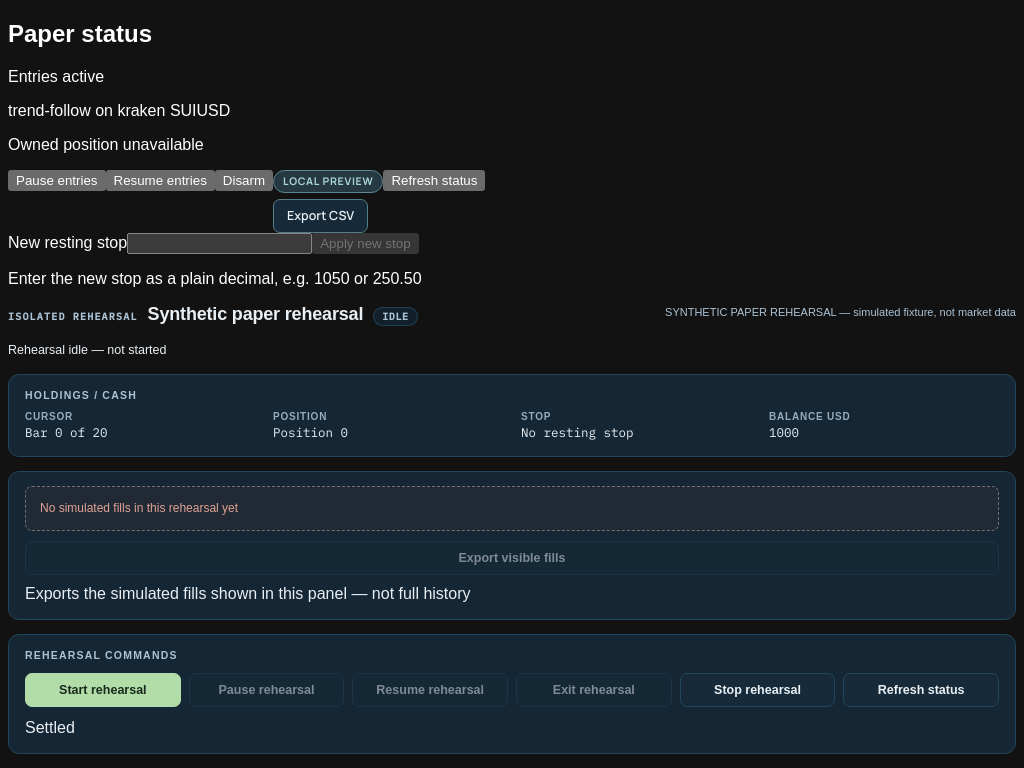
Test: StatusPanel raise-stop (paper armed surface) › POSTs paper.raise_stop, mirrors the backend success echo, and refreshes status without a manual refresh
Type "0.75" into the field with test id "paper-raise-stop-input" at (220, 243), box [127,233,312,254]
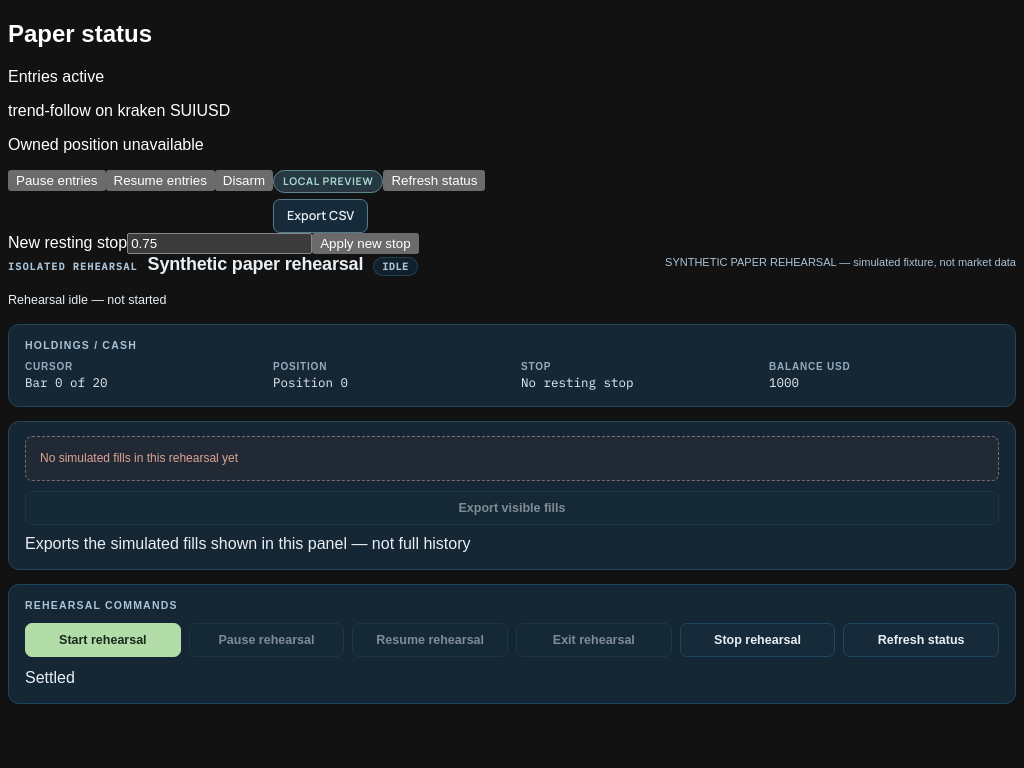
Result: the button with test id "paper-raise-stop-apply" is enabled
Click the button with test id "paper-raise-stop-apply" at (365, 243), box [312,233,419,254]
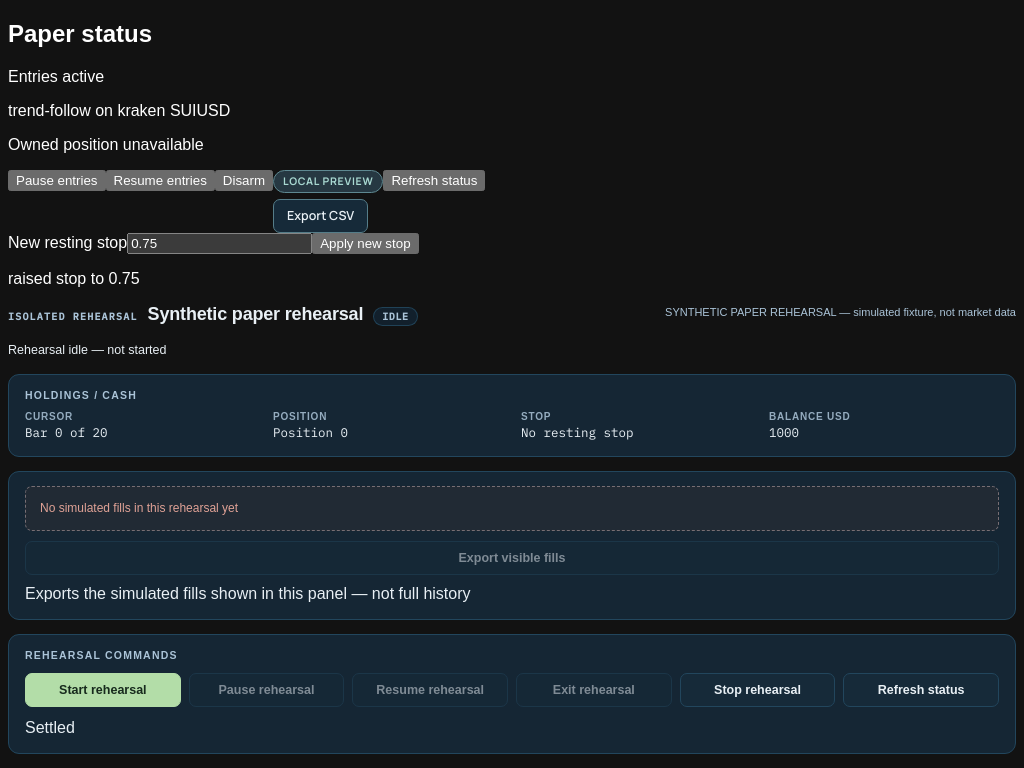
Result: the text with test id "paper-raise-stop-ok" reads "raised stop to 0.75" at [8,270,140,287]
